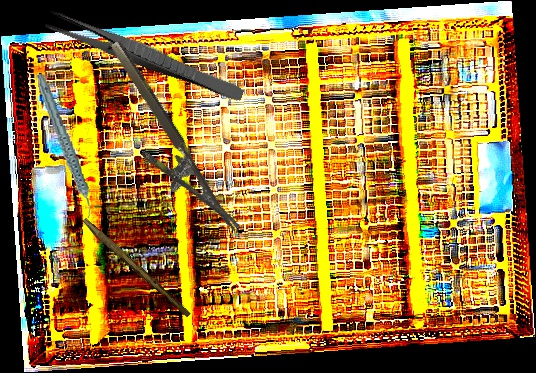Dressing Forceps: (43, 8, 248, 104)
Handpiece: (35, 70, 93, 222)
Needle Holder: (84, 38, 241, 252)
Scalpel Handle: (79, 217, 193, 319)
